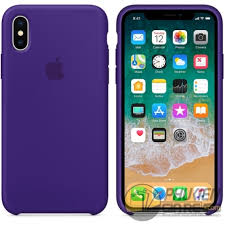iphone10: (115, 3, 225, 215)
